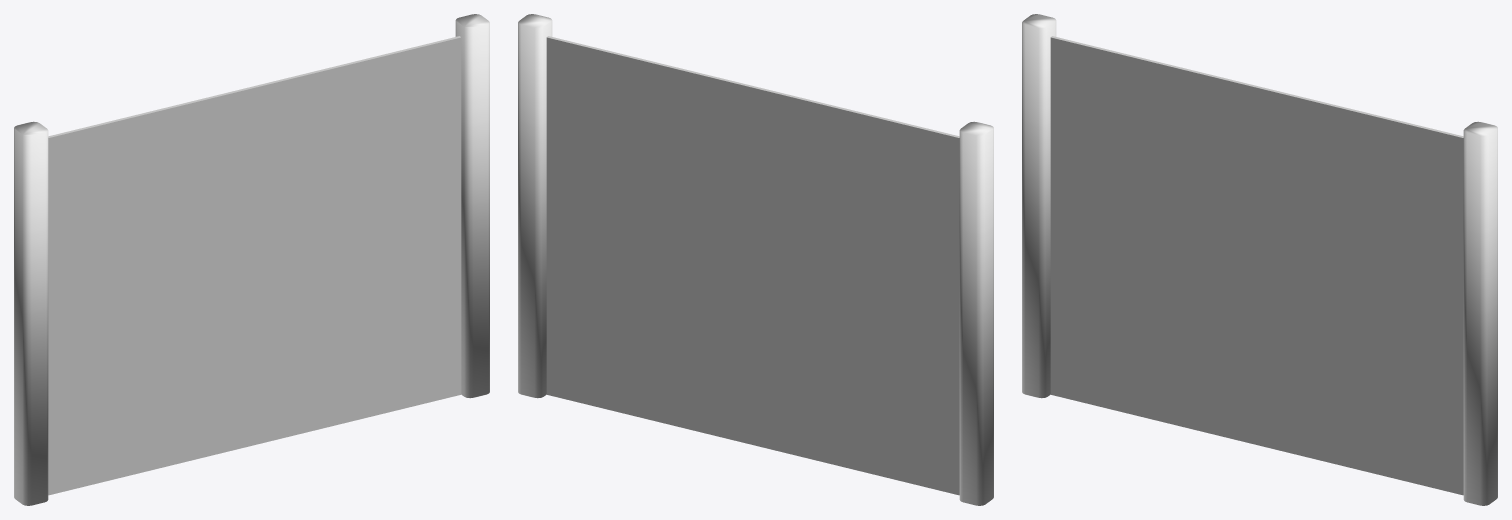
File: SM_Gate.fbx
The picture shows the model from 3 angles, left to right: view 1: azimuth 30°, elevation 25°; view 2: azimuth 150°, elevation 25°; view 3: azimuth 330°, elevation 25°; orthographic projection.
Visible parts, largest first — view 1: SM_Gate; view 2: SM_Gate; view 3: SM_Gate.
Part boxes in pixels (x1,y1,x2,y2): SM_Gate: (14, 14, 489, 505); SM_Gate: (518, 14, 993, 505); SM_Gate: (1022, 14, 1497, 505).
Bounding box in the file's own units: 2.64 × 0.14 × 2.
